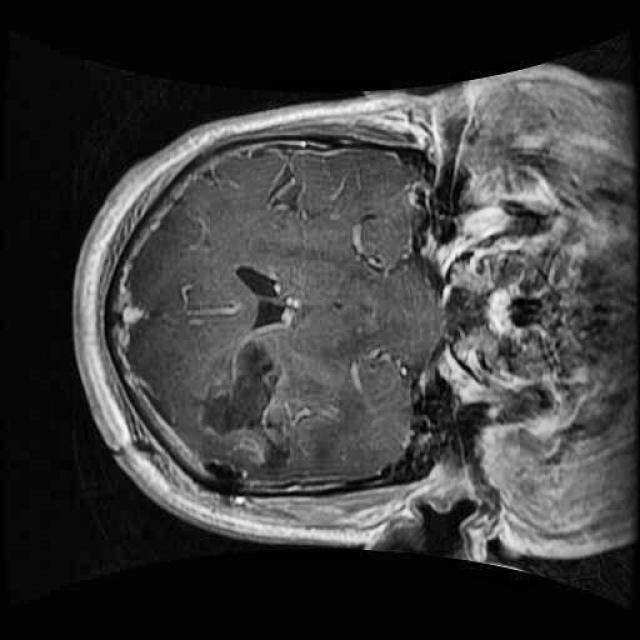Non-Tumor: (180, 325, 354, 492)
